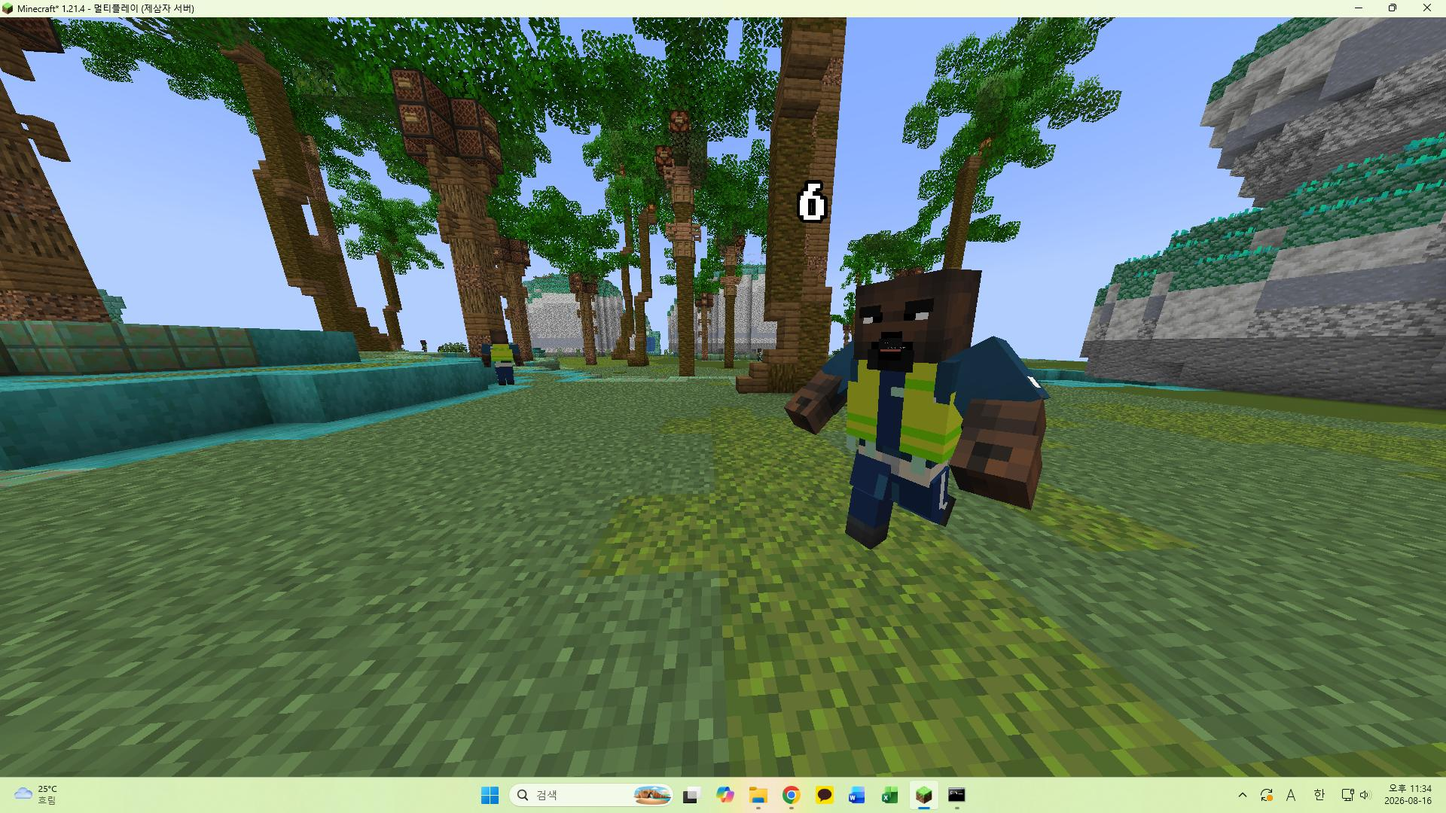Guardian: (786, 269, 1048, 549)
